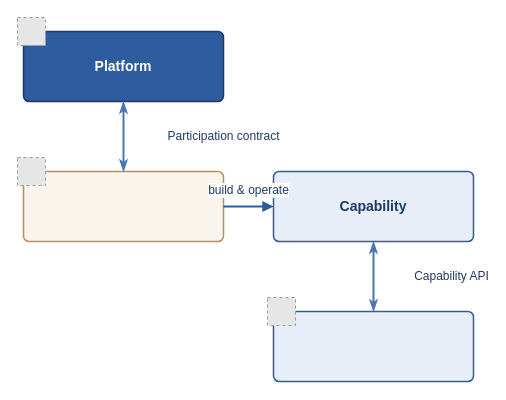
This 506x400 diagram has some shape labels left out. Grey dashed boxes stand in for pictures. The box of each missing label's shape, as (x1, y1, x2, y2) in pixels:
Capability consumers: (272, 310, 474, 382)
Capability producers: (22, 170, 224, 242)
